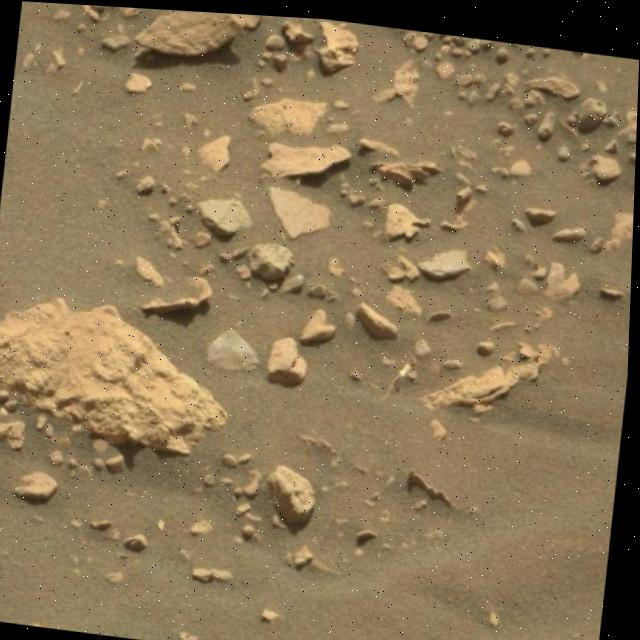mars-rocks: (0, 297, 228, 452), (135, 8, 260, 53), (262, 139, 352, 174), (272, 183, 332, 235), (249, 93, 328, 132), (272, 462, 319, 521), (198, 196, 253, 234), (270, 334, 310, 382), (250, 241, 295, 278)
